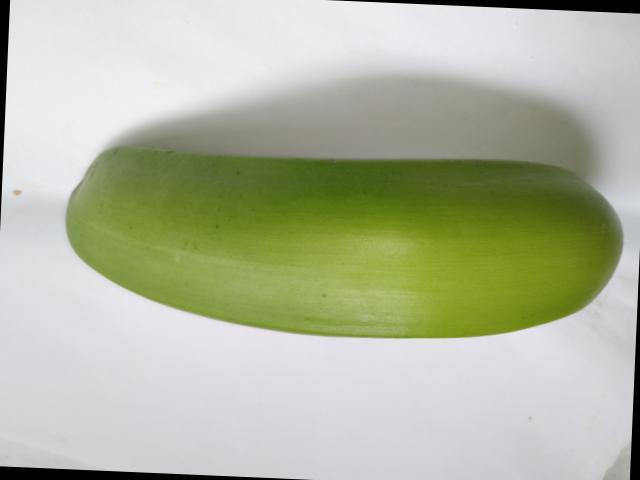freshunripe: (53, 125, 632, 349)
